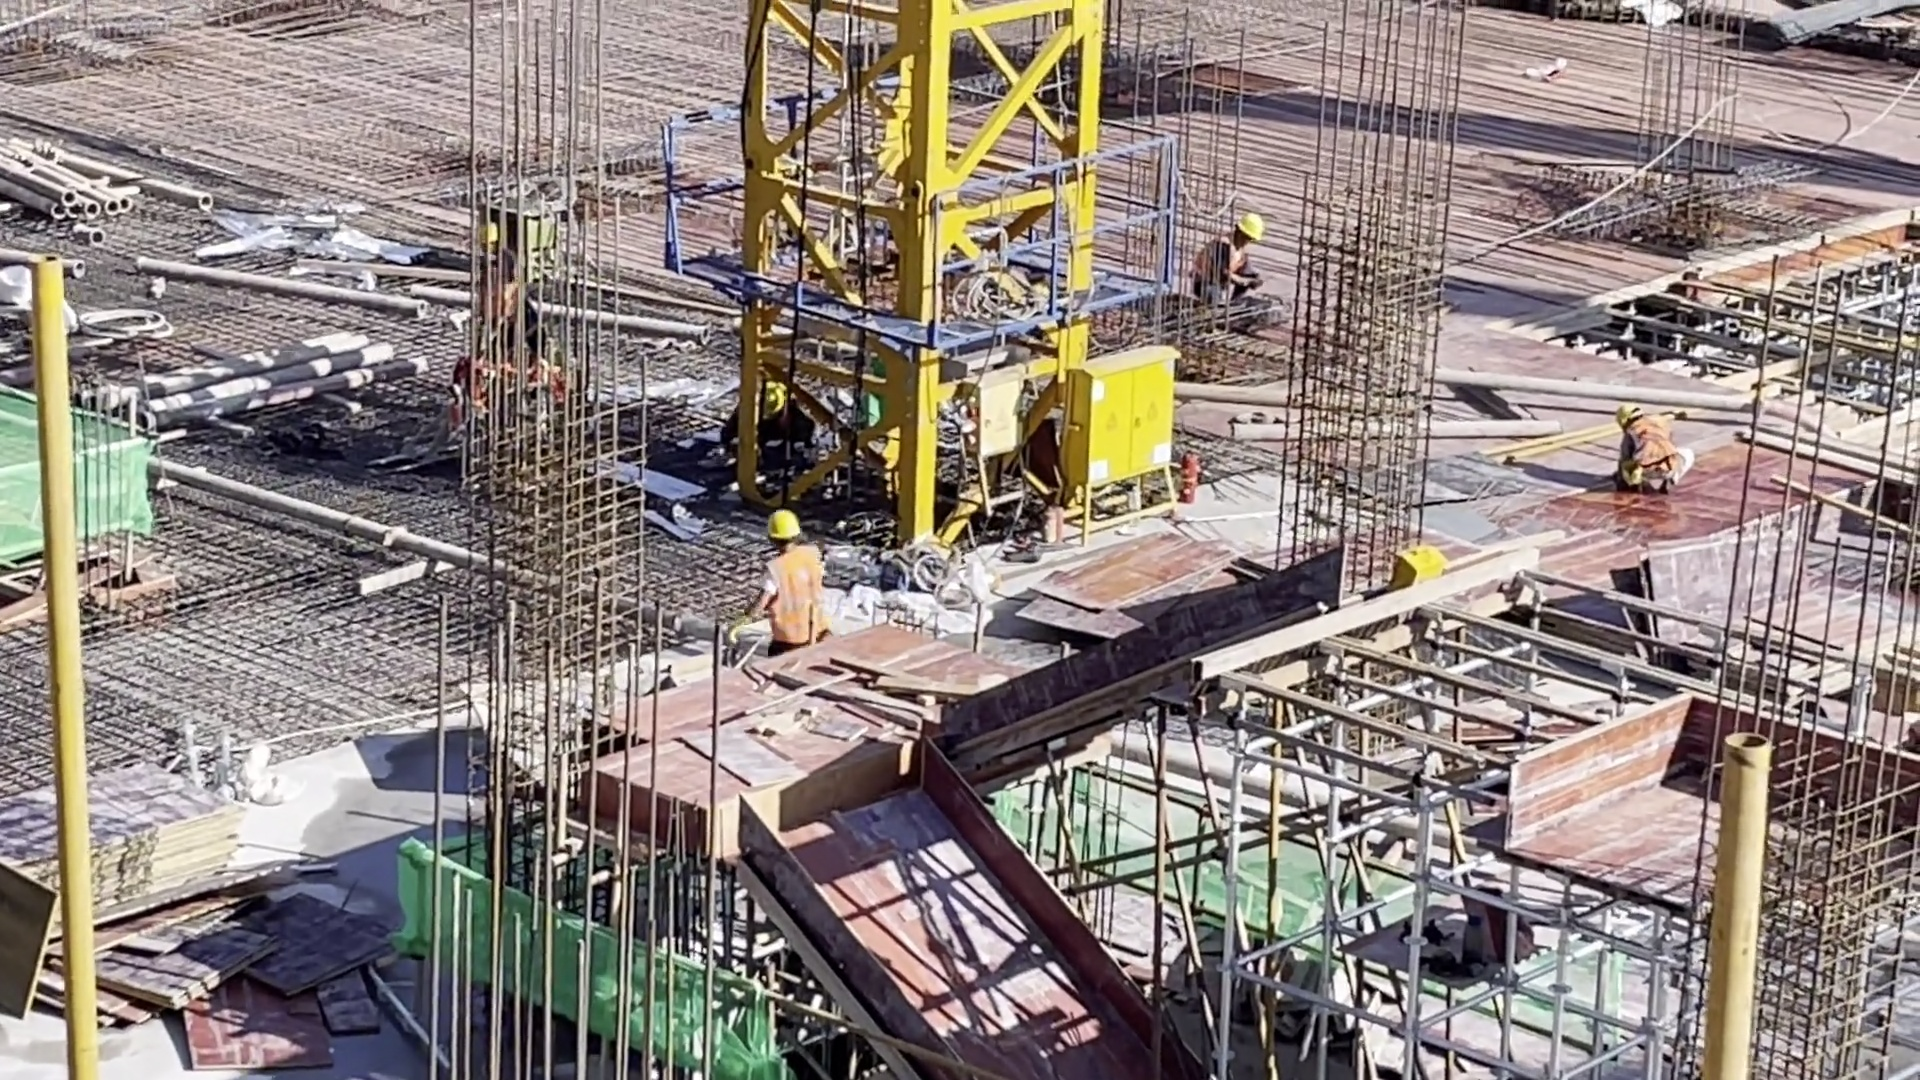board: (93, 892, 399, 1079), (1, 753, 252, 921)
ebox: (1059, 334, 1181, 536), (969, 359, 1033, 526), (1389, 540, 1453, 588)
helmet: (771, 508, 798, 540), (1232, 214, 1261, 241)
person: (752, 510, 830, 654), (1195, 206, 1274, 309), (1606, 410, 1692, 499)
rebar: (1751, 1, 1920, 65)
vest: (763, 548, 823, 647), (1628, 421, 1678, 476)
